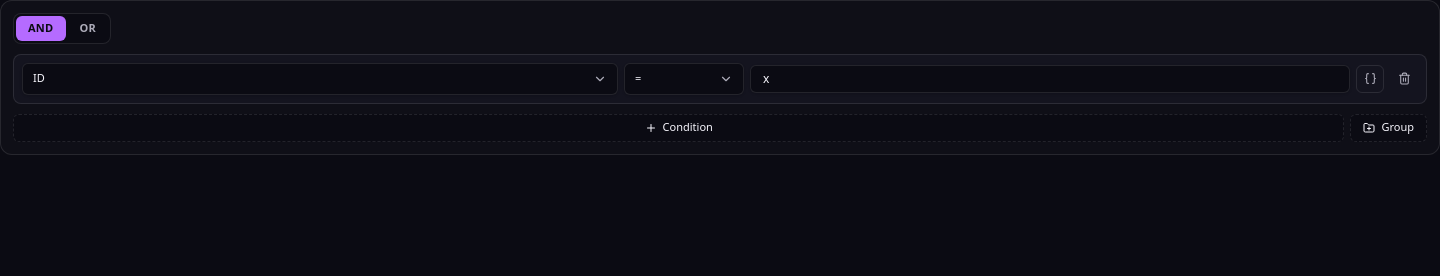
Test case: FilterBuilder field picker › offers id/created_at/updated_at even though the target form never declares them
The width and height of the screenshot is (1440, 276).
Note: Open the Field dropdown (the first SelectTrigger in the row).
Press the mouse on the dropdown labelled "ID" at x=39, y=78, box x1=22 y1=62 x2=618 y2=94
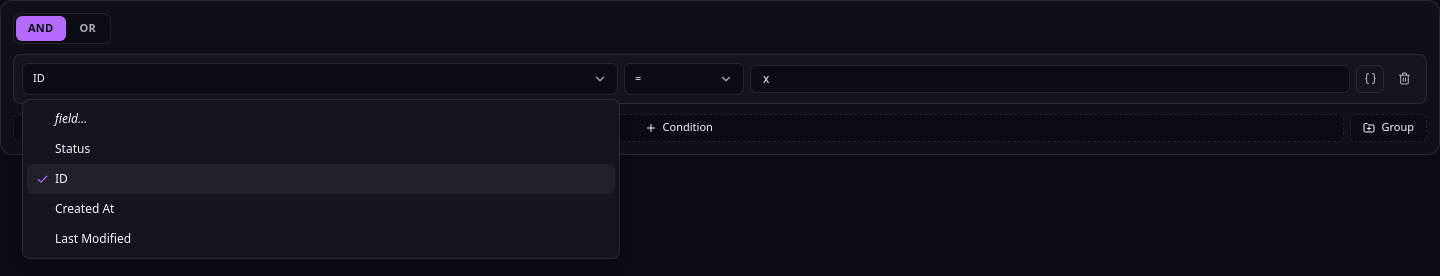
Expected: the option "ID" is shown, x1=27 y1=164 x2=615 y2=194
Expected: the option "Created At" is shown, x1=55 y1=200 x2=114 y2=217
Expected: the option "Last Modified" is shown, x1=55 y1=230 x2=131 y2=247
